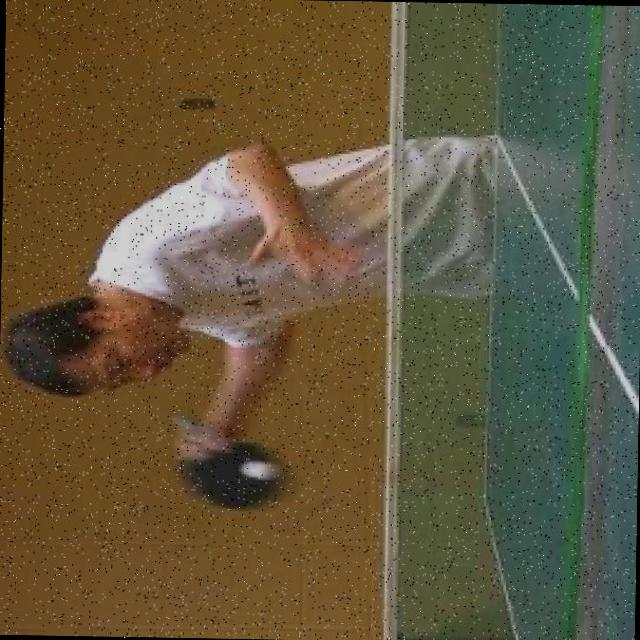ping-pong-ball: (244, 455, 274, 482)
